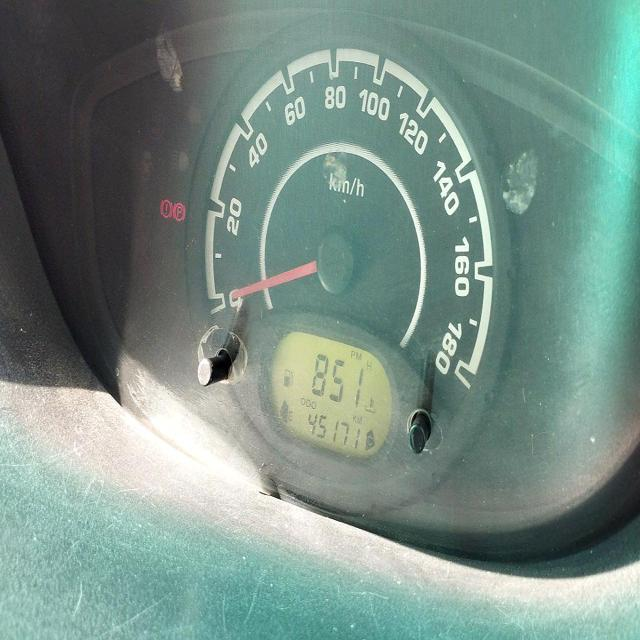odometer: (306, 410, 362, 451)
